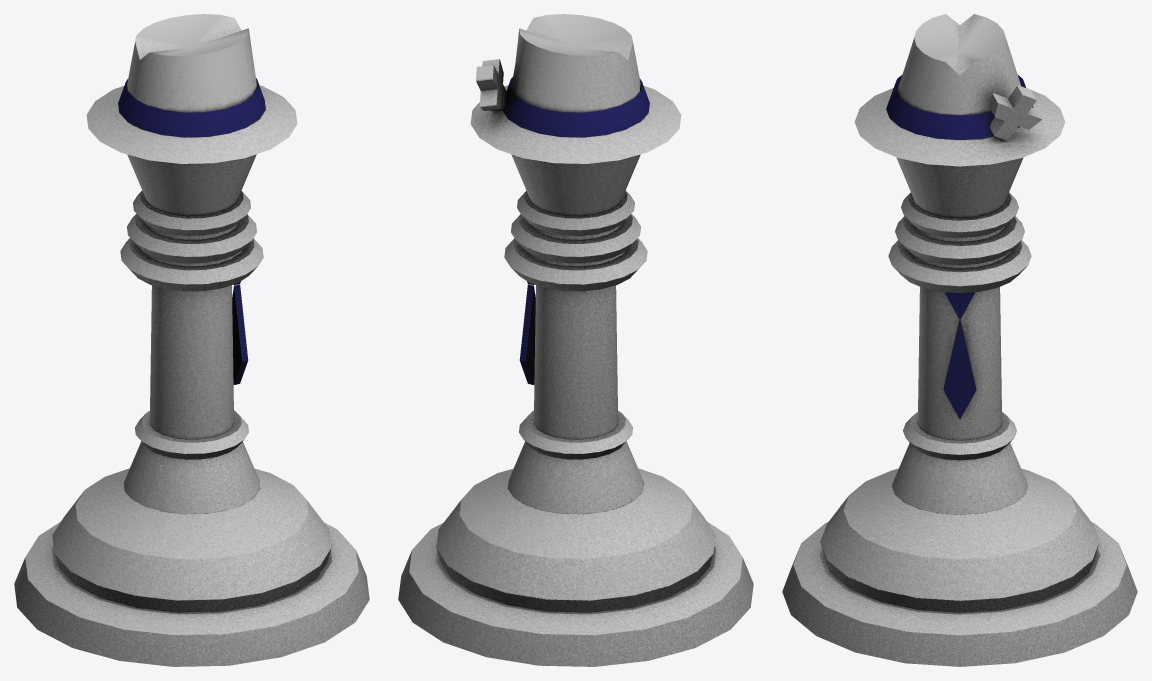
The model's file is King.fbx.
The picture shows the model from 3 angles, left to right: view 1: azimuth 30°, elevation 25°; view 2: azimuth 150°, elevation 25°; view 3: azimuth 270°, elevation 25°; orthographic projection.
Parts seen in each view (by area): view 1: King2:Mesh; view 2: King2:Mesh; view 3: King2:Mesh.
Boxes of the visible parts, x1,y1,x2,y2 form: King2:Mesh: (14,14,369,666); King2:Mesh: (398,14,753,666); King2:Mesh: (782,14,1137,666).
Size of the model in its own units: 2.25 by 3.87 by 2.25.
